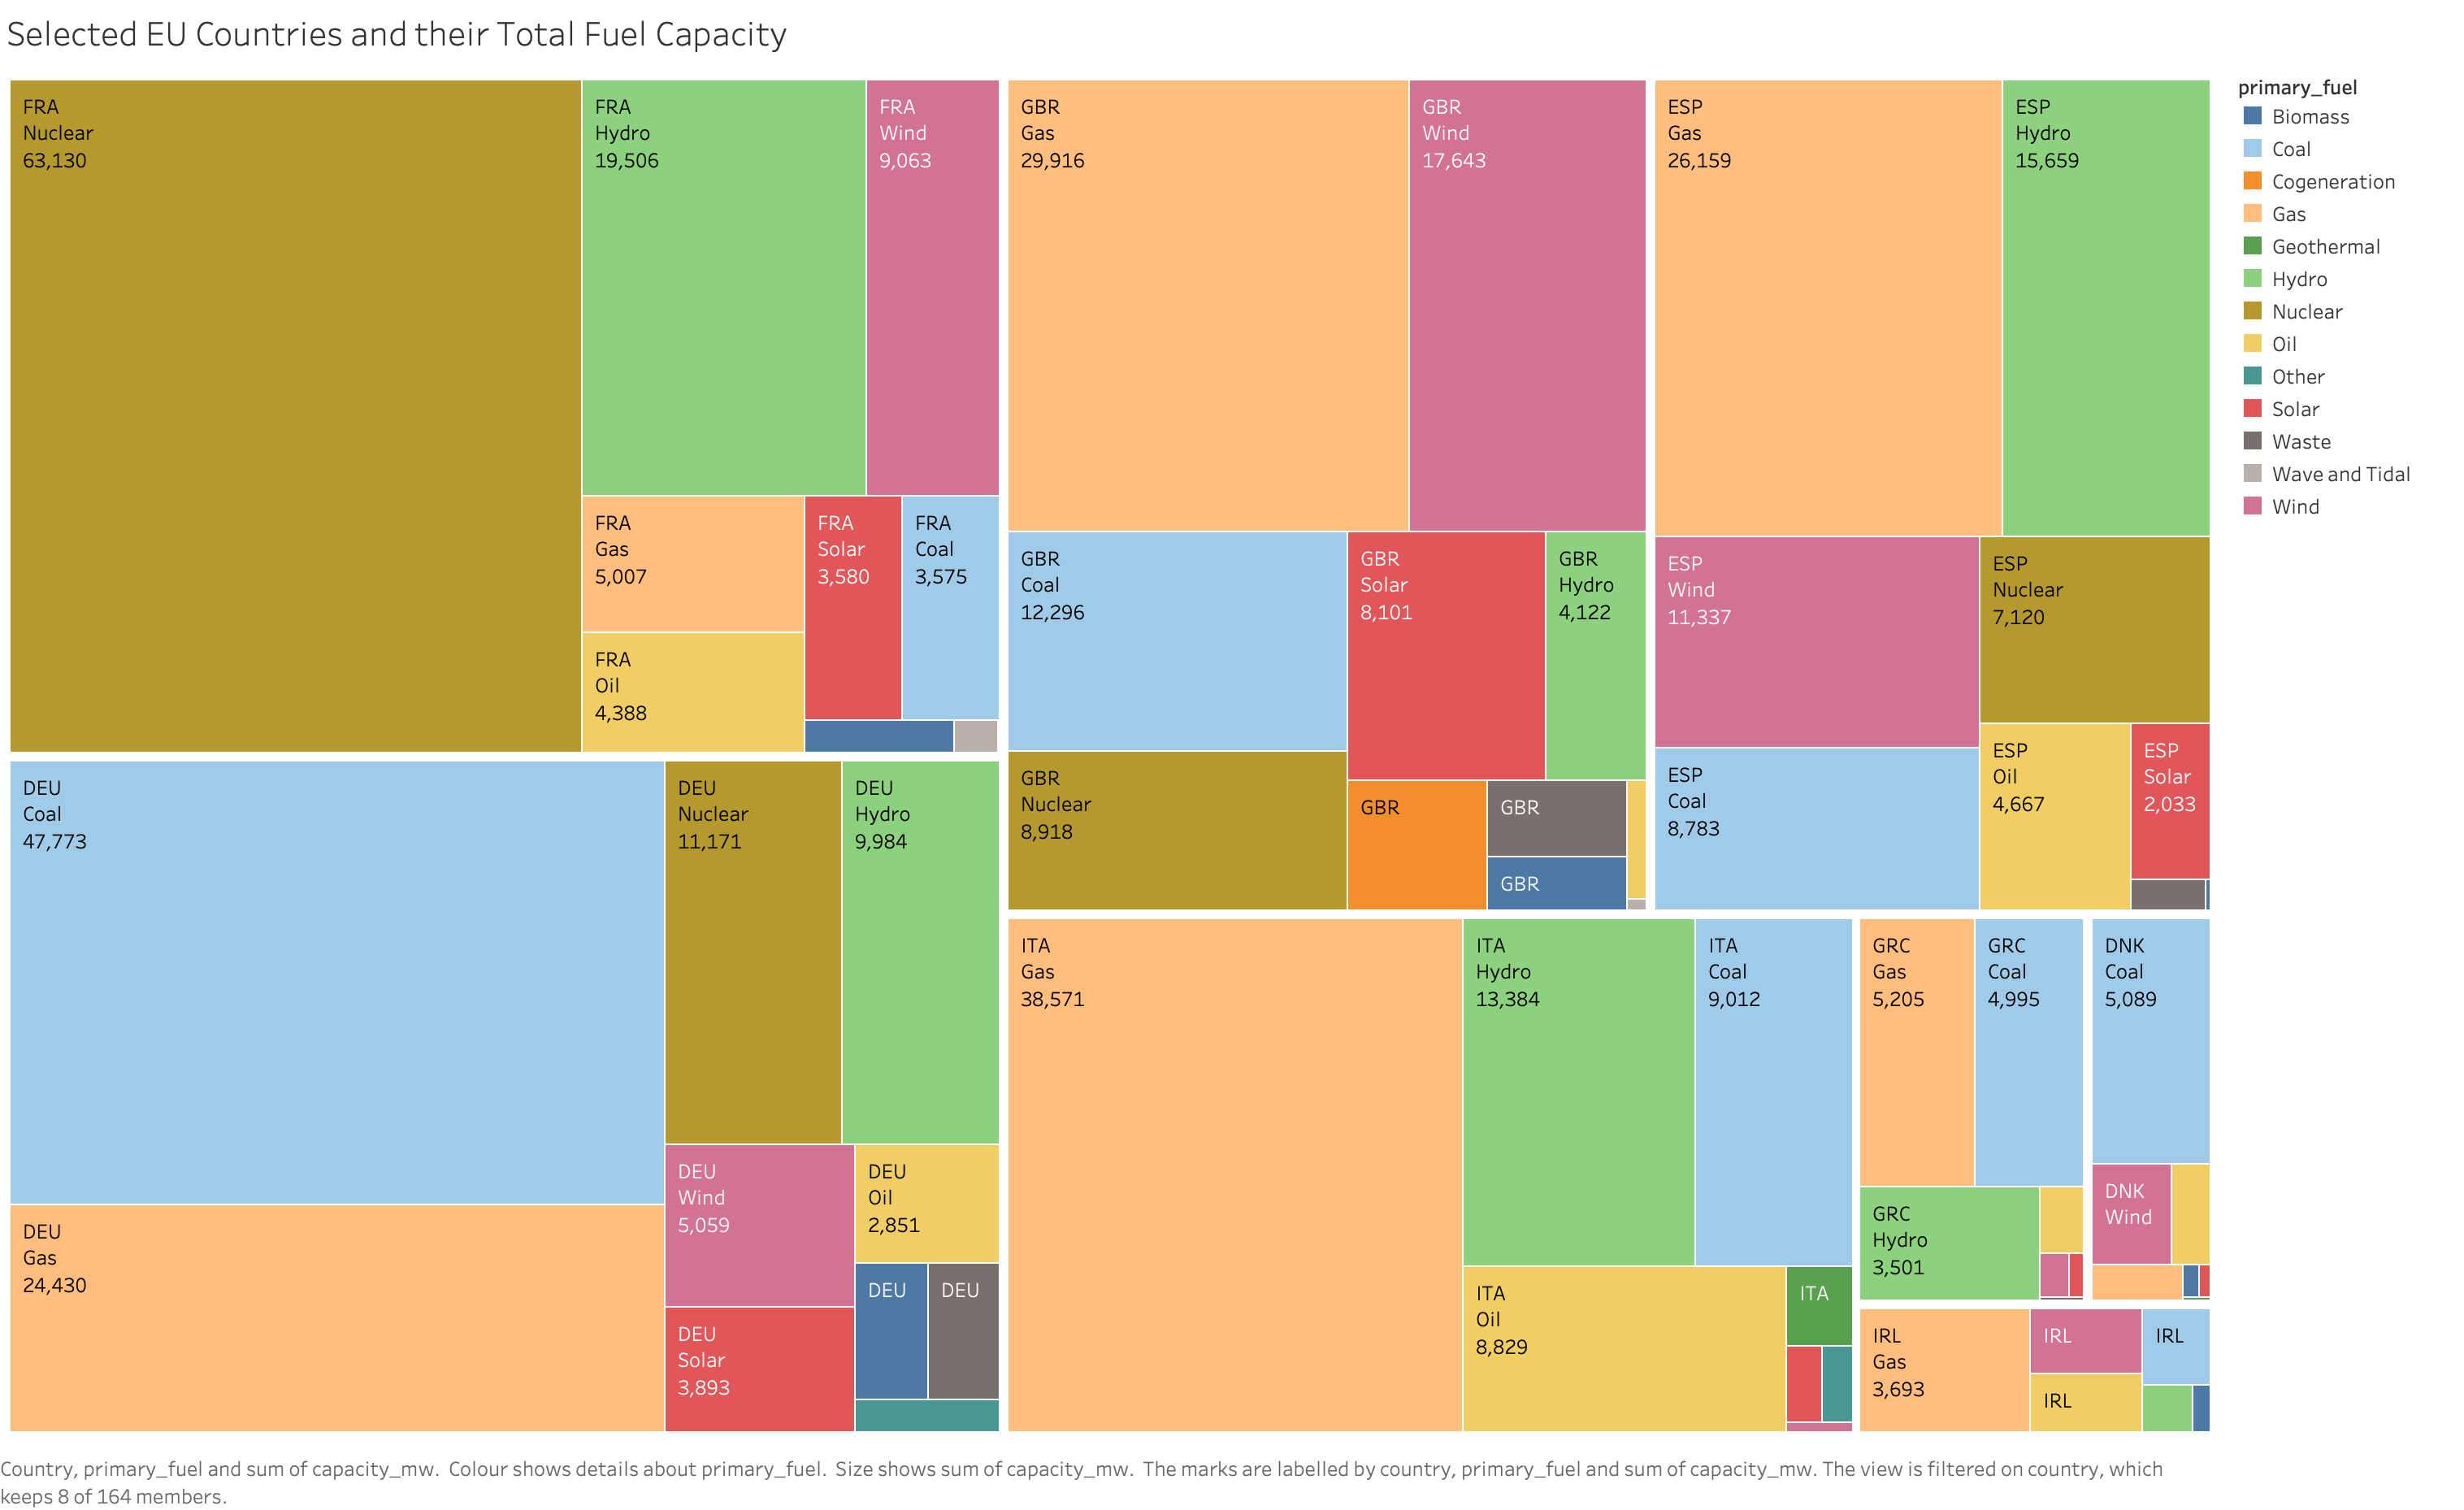

Layout of this report page (visuals, bound fields, positions):
{"tool":"tableau","page":{"name":"Dashboard 1","canvas":[1000,800],"ordinal":0},"visuals":[{"type":"worksheet","title":"Sheet 3","mark":"Automatic","box":[8,8,824,392]},{"type":"legend","title":"Sheet 3","param":"[federated.1jh35lo12rckte1b9hq731qftkwm].[avg:estimated_generation_gwh:qk]","box":[832,8,160,65]},{"type":"legend","title":"Sheet 2","param":"[federated.1jh35lo12rckte1b9hq731qftkwm].[none:primary_fuel:nk]","box":[832,73,160,326]},{"type":"worksheet","title":"Sheet 2","mark":"Automatic","box":[8,400,824,392]}]}

Visuals, with their boxes on the page's 1000x800 design canvas (x1, y1, x2, y2). These are canvas units, not pixel positions in the 2464x1510 screenshot, which may show the page scaled, cropped or inside an application window:
"Sheet 3" worksheet: x1=8, y1=8, x2=832, y2=400
"Sheet 3" legend: x1=832, y1=8, x2=992, y2=73
"Sheet 2" legend: x1=832, y1=73, x2=992, y2=399
"Sheet 2" worksheet: x1=8, y1=400, x2=832, y2=792
